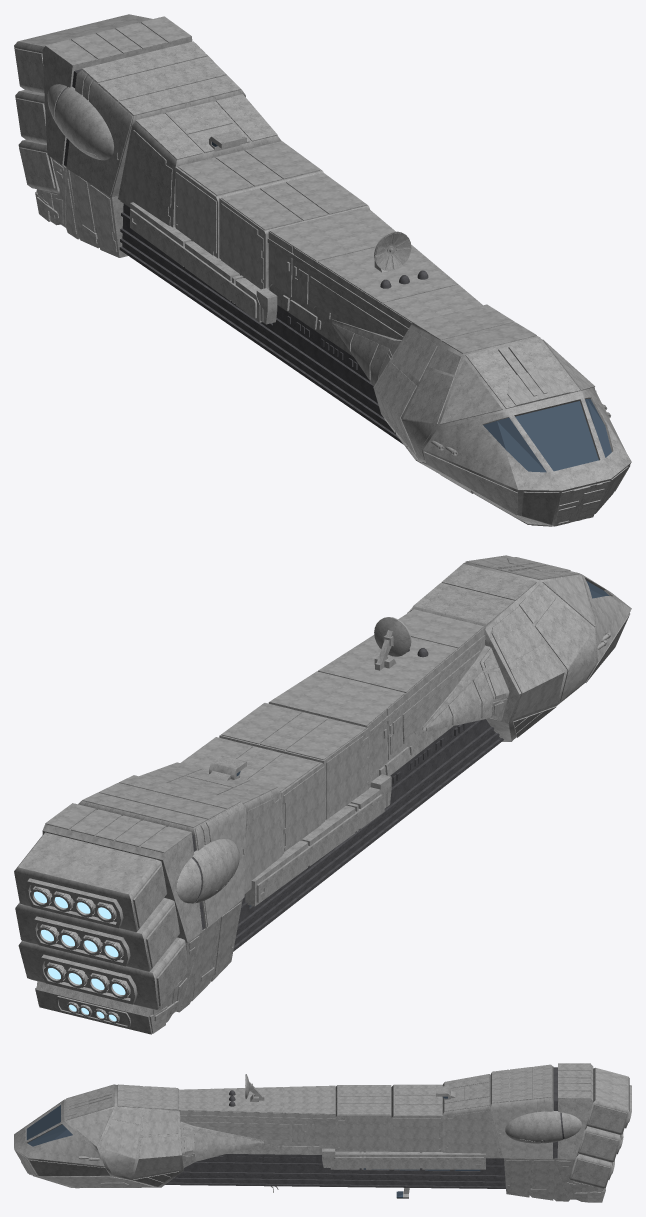
File: sw_carrack_cruiser.glb
3 renders of one model, top to bottom at view 1: azimuth 30°, elevation 25°; view 2: azimuth 150°, elevation 25°; view 3: azimuth 270°, elevation 25°, orthographic. The views are drawn at different scales.
Parts seen in each view (by area): view 1: HullPlates1_0, MainHull_0, MainHull_2, MainHull_1, HullPlates2_0, SensorArray_0; view 2: HullPlates1_0, MainHull_0, MainHull_2, HullPlates2_0, MainHull_3, SensorArray_0; view 3: HullPlates1_0, MainHull_0, MainHull_2, HullPlates2_0, MainHull_1, HullPlates3_0, SensorArray_0.
Part boxes in pixels (x1=…): HullPlates1_0: x1=37, y1=16, x2=631, y2=526; MainHull_0: x1=14, y1=14, x2=630, y2=525; MainHull_2: x1=64, y1=69, x2=428, y2=444; MainHull_1: x1=212, y1=142, x2=611, y2=472; HullPlates2_0: x1=35, y1=160, x2=570, y2=526; SensorArray_0: x1=374, y1=231, x2=411, y2=272; HullPlates1_0: x1=45, y1=555, x2=631, y2=1016; MainHull_0: x1=14, y1=562, x2=630, y2=1034; MainHull_2: x1=192, y1=648, x2=503, y2=951; HullPlates2_0: x1=35, y1=557, x2=570, y2=1033; MainHull_3: x1=34, y1=891, x2=125, y2=1021; SensorArray_0: x1=374, y1=617, x2=411, y2=670; HullPlates1_0: x1=14, y1=1063, x2=601, y2=1199; MainHull_0: x1=15, y1=1064, x2=631, y2=1202; MainHull_2: x1=165, y1=1067, x2=557, y2=1188; HullPlates2_0: x1=65, y1=1097, x2=604, y2=1202; MainHull_1: x1=26, y1=1096, x2=480, y2=1170; HullPlates3_0: x1=69, y1=1093, x2=600, y2=1195; SensorArray_0: x1=245, y1=1074, x2=264, y2=1101.
Size of the model in its own units: 0.3881 by 0.4276 by 1.97.
4 materials, 2 textured.
